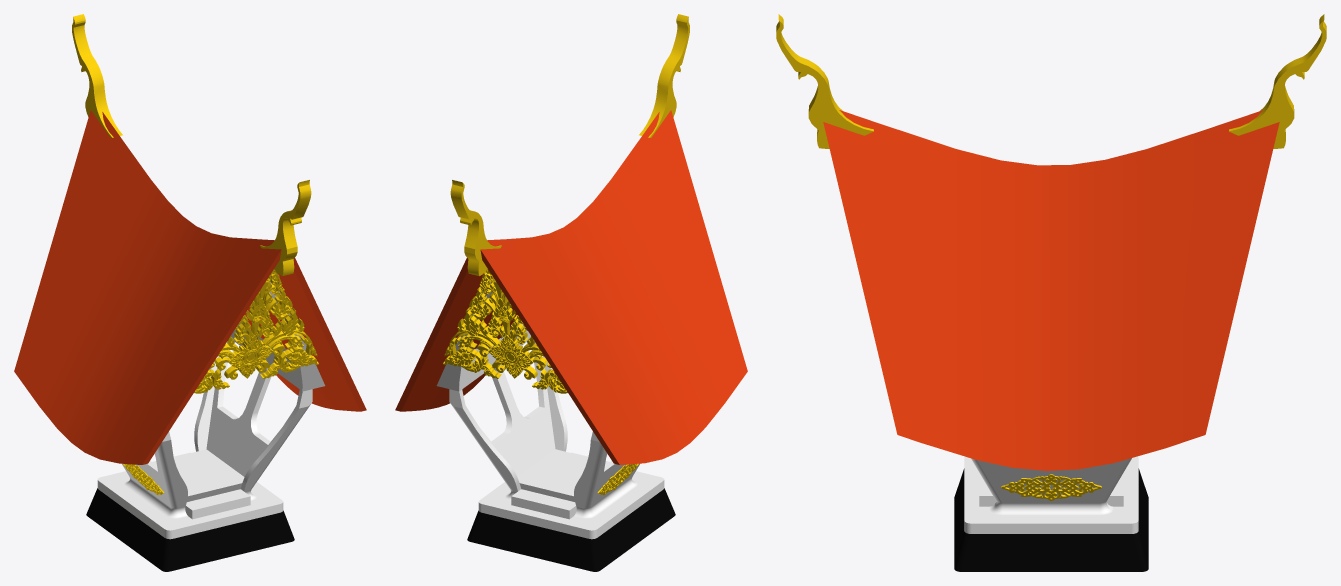
Rendered from cal006.glb.
3 renders of one model, left to right at view 1: azimuth 30°, elevation 25°; view 2: azimuth 150°, elevation 25°; view 3: azimuth 270°, elevation 25°, orthographic. The views are drawn at different scales.
Visible parts, largest first — view 1: Part11[74], Part20[92], Part52[797], Part43[183], 2022_05_26_07422823[228], 2022_05_26_07422823[227], Part49[219], daa9fe217a8d1180488f9063988795f13999[592], Part37[158], cbf30ae725705d73f984060f334390d6[796]; view 2: Part11[74], Part20[92], Part52[797], Part43[183], 2022_05_26_07422823[227], 2022_05_26_07422823[228], Part49[225], daa9fe217a8d1180488f9063988795f13999[780], Part37[173], cbf30ae725705d73f984060f334390d6[796]; view 3: Part11[74], Part20[92], Part52[797], 2022_05_26_07422823[227], 2022_05_26_07422823[228], cbf30ae725705d73f984060f334390d6[794].
Boxes of the visible parts, <box> form: Part11[74]: <box>14,110,366,464</box>; Part20[92]: <box>97,323,312,539</box>; Part52[797]: <box>86,488,294,571</box>; Part43[183]: <box>153,449,244,501</box>; 2022_05_26_07422823[228]: <box>72,14,122,137</box>; 2022_05_26_07422823[227]: <box>260,180,311,276</box>; Part49[219]: <box>185,489,250,519</box>; daa9fe217a8d1180488f9063988795f13999[592]: <box>227,332,267,375</box>; Part37[158]: <box>269,282,325,391</box>; cbf30ae725705d73f984060f334390d6[796]: <box>122,463,164,495</box>; Part11[74]: <box>395,110,747,464</box>; Part20[92]: <box>449,323,664,539</box>; Part52[797]: <box>467,488,675,571</box>; Part43[183]: <box>517,449,608,501</box>; 2022_05_26_07422823[227]: <box>639,14,689,137</box>; 2022_05_26_07422823[228]: <box>450,180,501,276</box>; Part49[225]: <box>511,489,576,519</box>; daa9fe217a8d1180488f9063988795f13999[780]: <box>494,332,534,375</box>; Part37[173]: <box>436,282,492,391</box>; cbf30ae725705d73f984060f334390d6[796]: <box>597,463,639,495</box>; Part11[74]: <box>823,110,1279,470</box>; Part20[92]: <box>964,456,1138,533</box>; Part52[797]: <box>954,468,1148,571</box>; 2022_05_26_07422823[227]: <box>776,14,873,148</box>; 2022_05_26_07422823[228]: <box>1229,14,1326,148</box>; cbf30ae725705d73f984060f334390d6[794]: <box>1001,474,1101,500</box>.
Bounding box in the file's own units: 0.00436 × 0.00795 × 0.00768.
